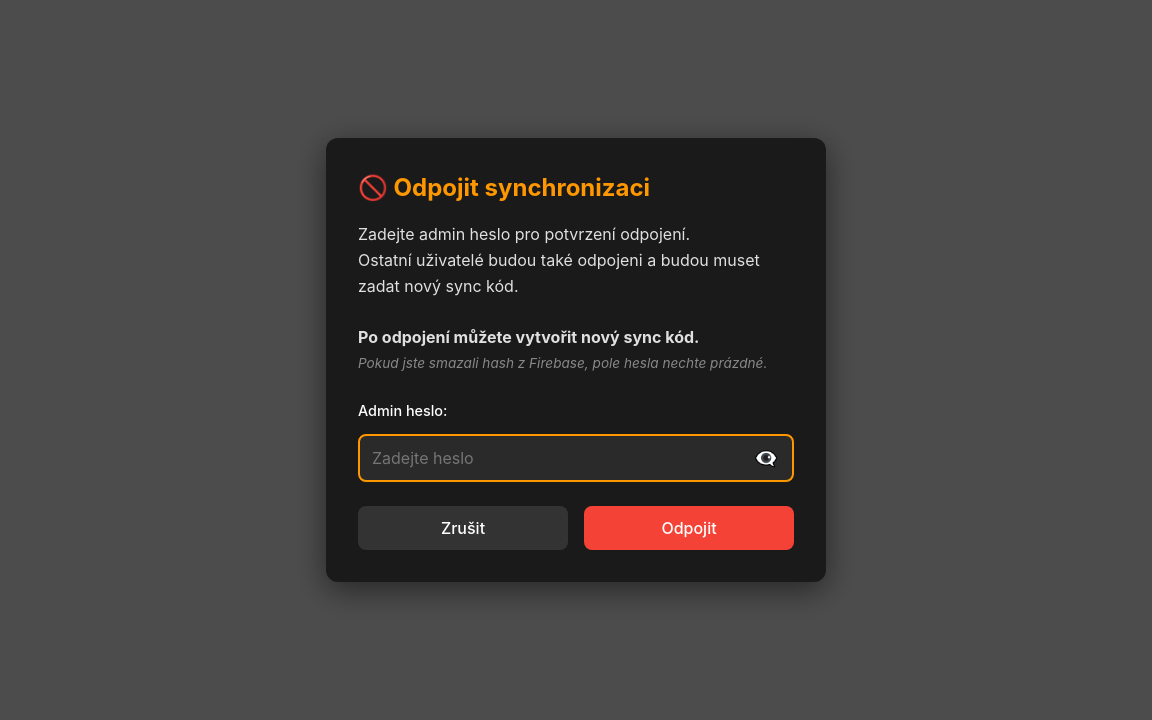
Test: DisconnectModal › should show error on incorrect password
Type "wrongpass" into the password field with placeholder "Zadejte heslo" at x=576, y=458, box 358,434 -> 794,482
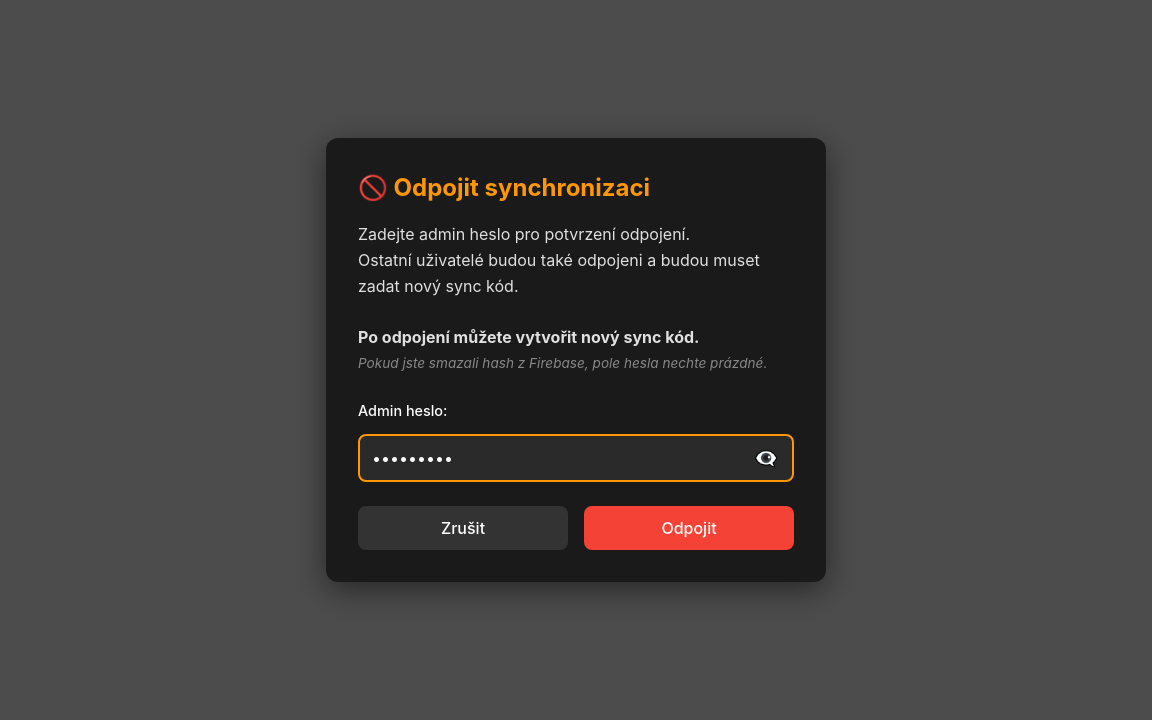
Click the button "Odpojit" at x=689, y=528, box 584,506 -> 794,550
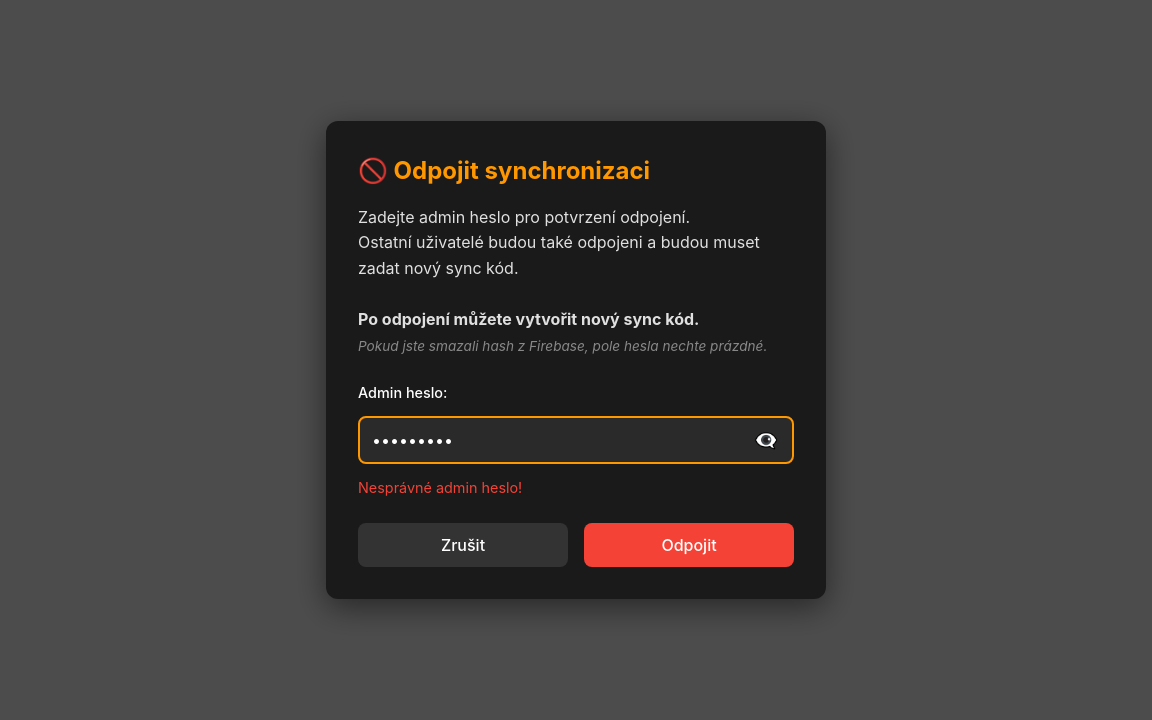
Result: the text "Nesprávné admin heslo!" is shown at 358,479 -> 522,496
